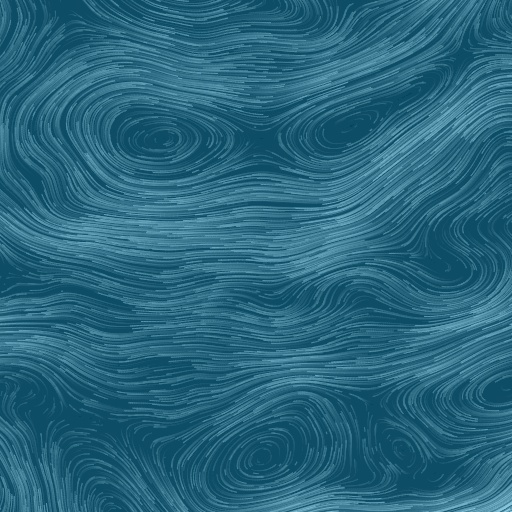eddy: (88, 98, 229, 182), (207, 411, 318, 501), (313, 103, 382, 150), (386, 434, 423, 472)
